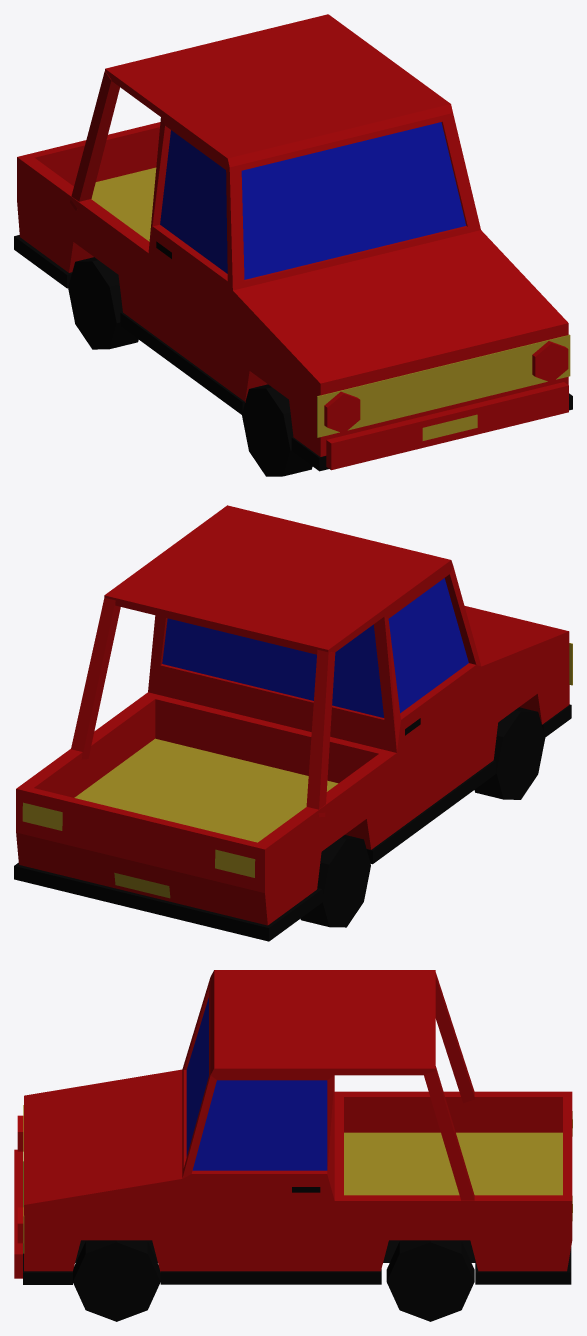
Rendered from car.obj.
3 renders of one model, top to bottom at view 1: azimuth 30°, elevation 25°; view 2: azimuth 150°, elevation 25°; view 3: azimuth 270°, elevation 25°, orthographic. The views are drawn at different scales.
Parts seen in each view (by area): view 1: Cube.1_1; view 2: Cube.1_1; view 3: Cube.1_1.
Part boxes in pixels (x1,y1,x2,y2): Cube.1_1: (14,14,572,476); Cube.1_1: (14,505,572,941); Cube.1_1: (14,970,572,1321).
Size of the model in its own units: 1.25 by 1.29 by 2.62.
